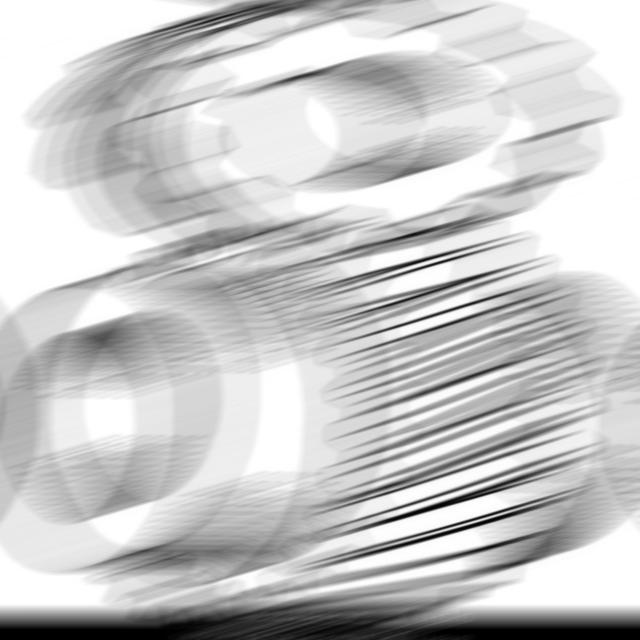Gear: (110, 226, 581, 616), (129, 4, 596, 234)
